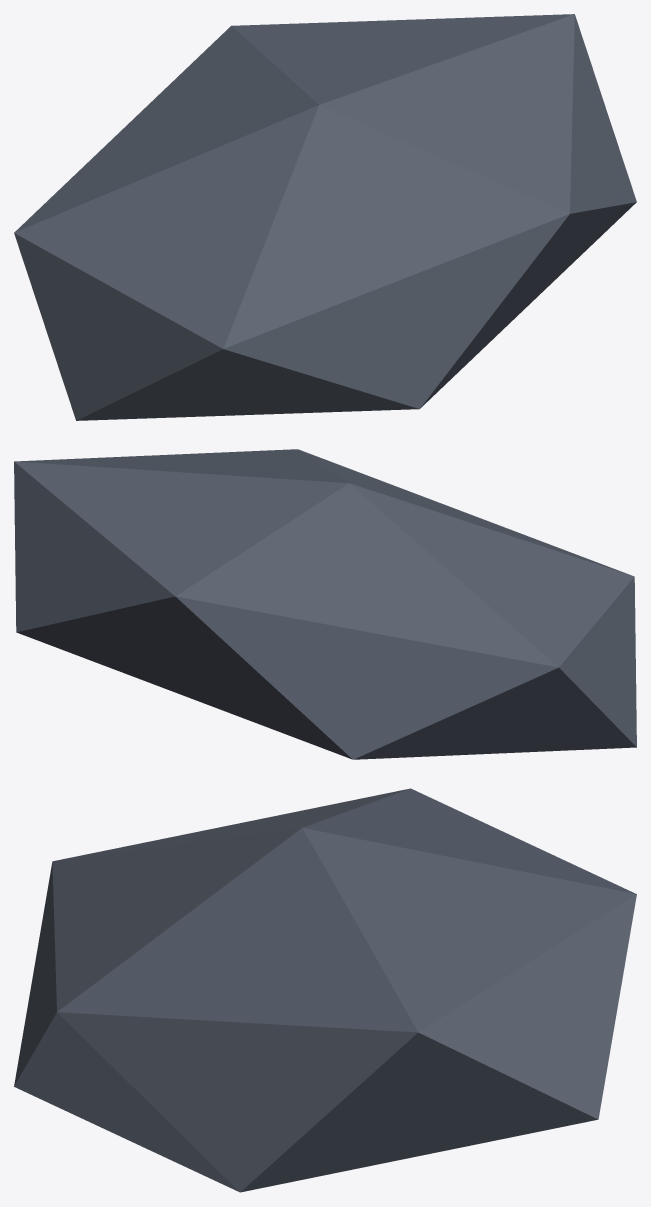
File: EXTG_SouthLooseStone_04.glb
The picture shows the model from 3 angles, top to bottom: view 1: azimuth 30°, elevation 25°; view 2: azimuth 150°, elevation 25°; view 3: azimuth 270°, elevation 25°; orthographic projection. The views are drawn at different scales.
Parts seen in each view (by area): view 1: EXTG_SouthLooseStone_04; view 2: EXTG_SouthLooseStone_04; view 3: EXTG_SouthLooseStone_04.
Boxes of the visible parts, x1,y1,x2,y2 form: EXTG_SouthLooseStone_04: (14, 14, 636, 420); EXTG_SouthLooseStone_04: (14, 449, 636, 759); EXTG_SouthLooseStone_04: (14, 788, 636, 1192).
Size of the model in its own units: 1.04 by 0.4263 by 0.7854.
